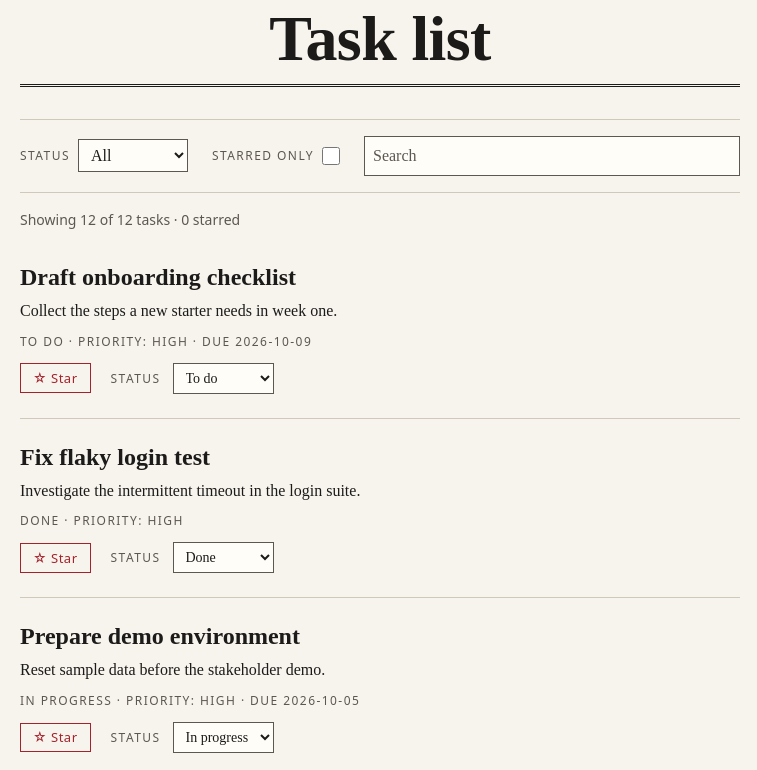
Test: App › narrows the list to starred tasks only when ticked (AC2)
The width and height of the screenshot is (757, 770).
Click the button with aria-label "Star Draft onboarding checklist" at (55, 378), box [20,364,91,393]
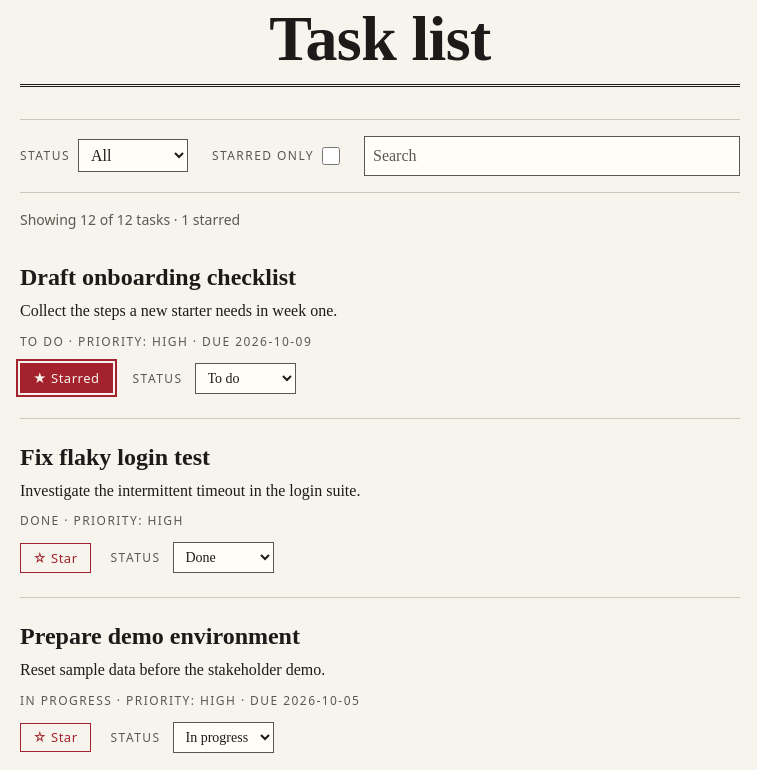
Click the checkbox labelled "Starred only" at (331, 156), box [322,147,340,165]
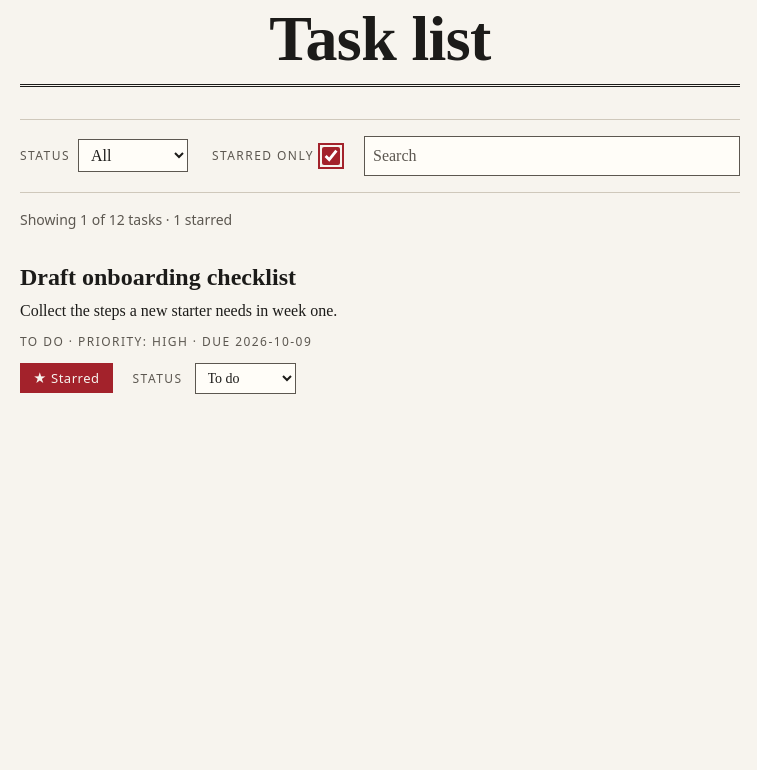
Expected: the list item shows "Draft onboarding checklist", [20,264,296,290]
Result: the number of list items is 1 at [20,264,437,394]
